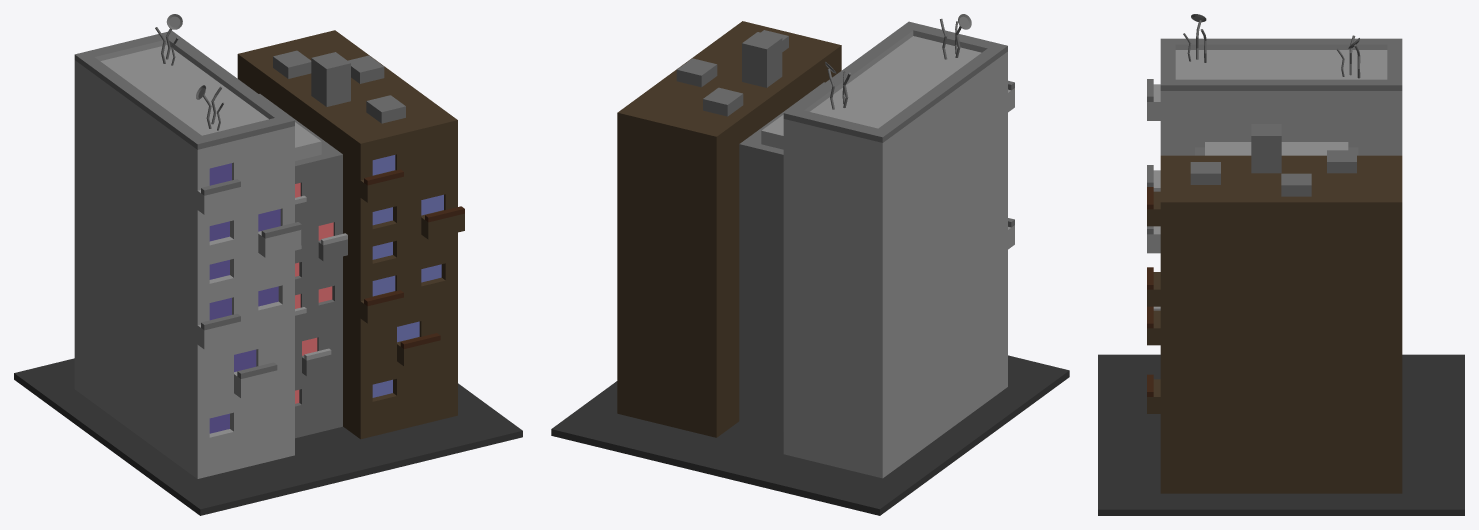
3 views of the same model, side by side, from view 1: azimuth 30°, elevation 25°; view 2: azimuth 150°, elevation 25°; view 3: azimuth 270°, elevation 25° (orthographic). The views are drawn at different scales.
Visible parts, largest first — view 1: Cube, Cube.002, Floor, Cube.001; view 2: Cube, Cube.002, Floor, Cube.001; view 3: Cube.002, Cube, Floor, Cube.001.
Part boxes in pixels (x1,y1,x2,y2): Cube: (74,31,301,478); Cube.002: (237,30,464,439); Floor: (14,358,522,515); Cube.001: (259,94,347,438); Cube: (783,21,1014,478); Cube.002: (617,21,841,437); Floor: (551,355,1069,515); Cube.001: (739,82,824,431); Cube.002: (1147,124,1402,493); Cube: (1147,38,1402,310); Floor: (1098,354,1464,515); Cube.001: (1195,142,1358,155).
Size of the model in its own units: 800 by 800 by 899.
